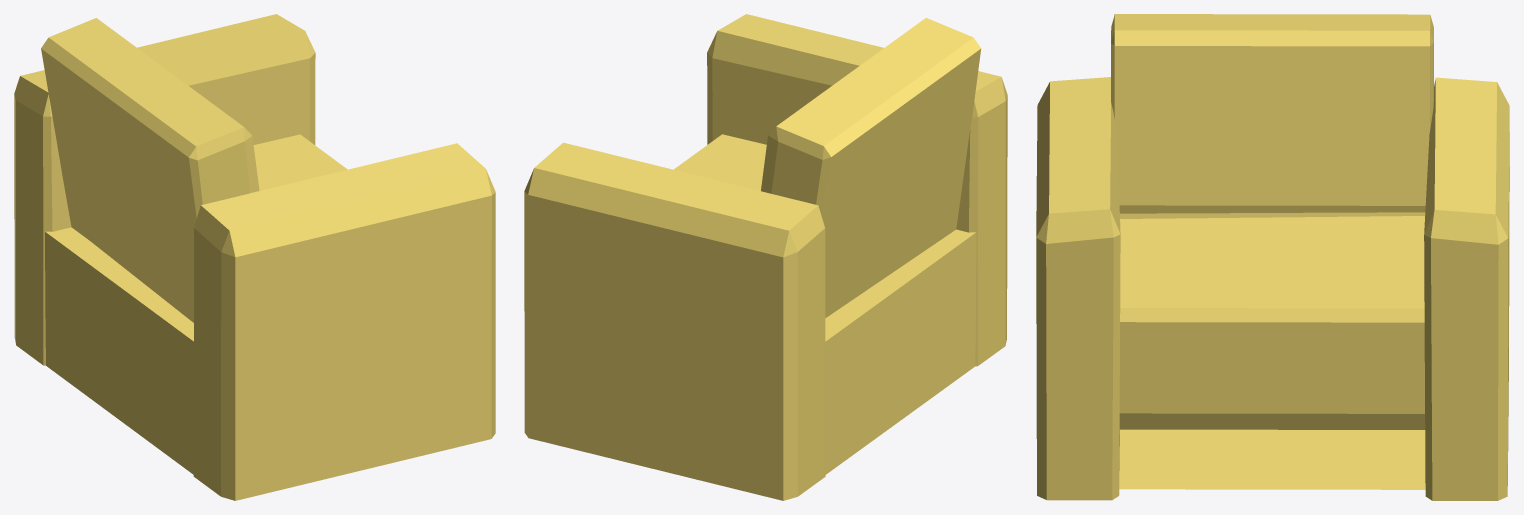
File: Armchair_1.fbx
3 renders of one model, left to right at view 1: azimuth 30°, elevation 25°; view 2: azimuth 150°, elevation 25°; view 3: azimuth 270°, elevation 25°, orthographic. The views are drawn at different scales.
Parts seen in each view (by area): view 1: Armchair_1; view 2: Armchair_1; view 3: Armchair_1.
Part boxes in pixels (box(x1,y1,x2,y2)): Armchair_1: box(14, 14, 495, 500); Armchair_1: box(524, 14, 1007, 500); Armchair_1: box(1036, 14, 1509, 500).
Size of the model in its own units: 125 by 175 by 145.
